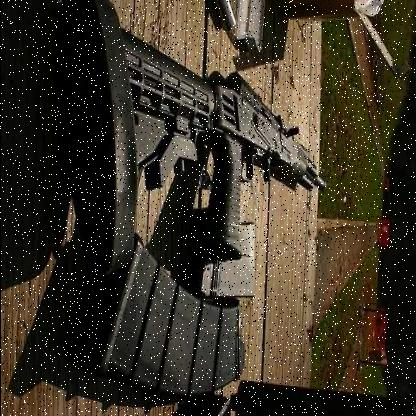rifle: (99, 22, 332, 285)
